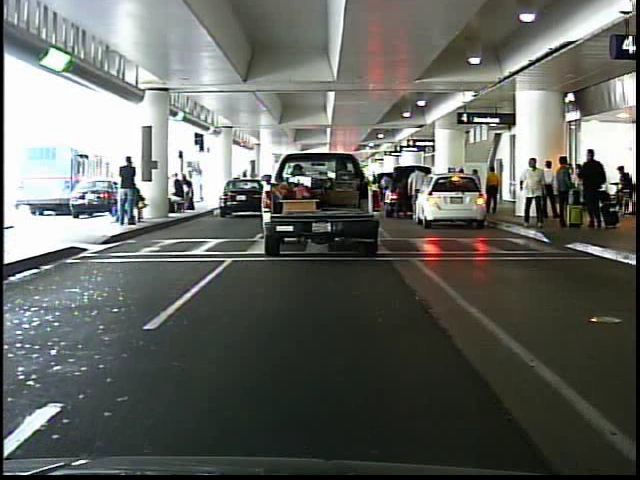person: (515, 154, 548, 236), (581, 145, 608, 233), (120, 158, 142, 230), (554, 153, 575, 228), (407, 163, 432, 223), (487, 163, 503, 217), (612, 160, 635, 194)
